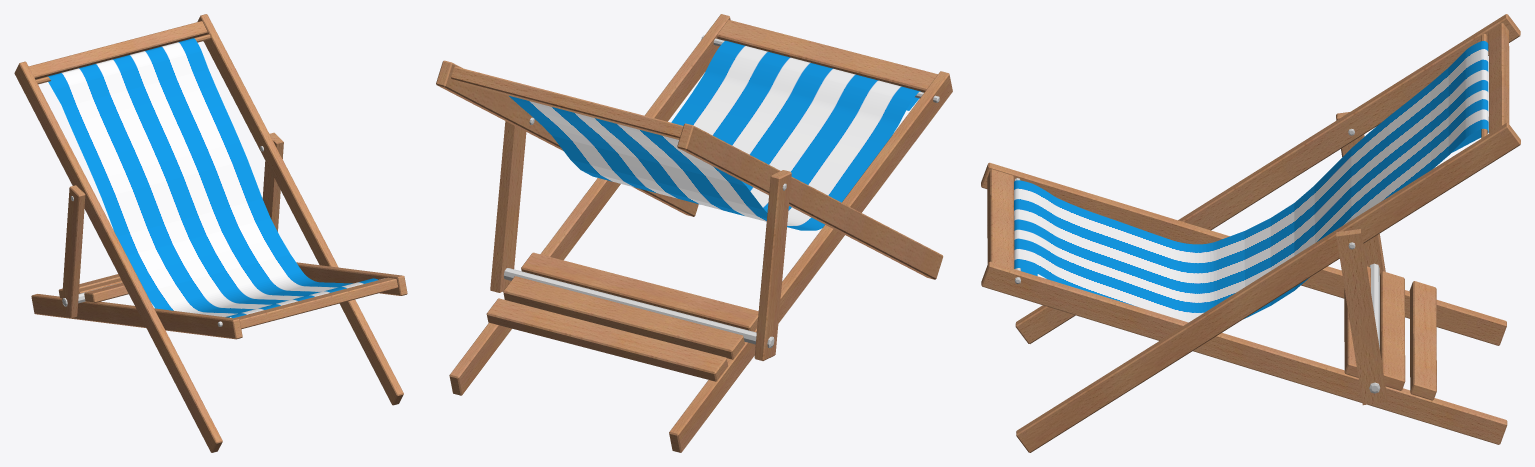
The model's file is sweethome3d-blendswap-cc-0-deck-chair-64.glb.
3 views of the same model, side by side, from view 1: azimuth 30°, elevation 25°; view 2: azimuth 150°, elevation 25°; view 3: azimuth 270°, elevation 25° (orthographic). The views are drawn at different scales.
Parts seen in each view (by area): view 1: Chair.002_Group1.002; view 2: Chair.002_Group1.002; view 3: Chair.002_Group1.002.
Boxes of the visible parts, x1,y1,x2,y2 form: Chair.002_Group1.002: (14,14,407,452); Chair.002_Group1.002: (436,14,952,452); Chair.002_Group1.002: (981,14,1520,452).
Bounding box in the file's own units: 71.69 × 83.99 × 125.
Materials: 3 (2 with a texture image).
